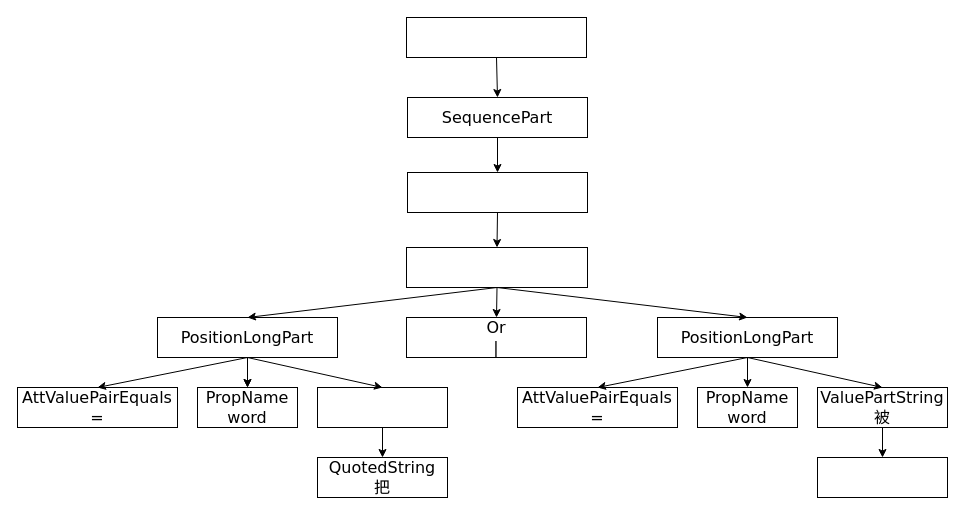
Image size: 965x515. Some labels were removed from this diagram. The centre of each missing label's shape, as x and y in pixels:
PositionLong: the point at 497,267
PositionPositionLong: the point at 497,192
QuotedString 被: the point at 882,477
Sequence: the point at 496,37
ValuePartString 把: the point at 382,407
